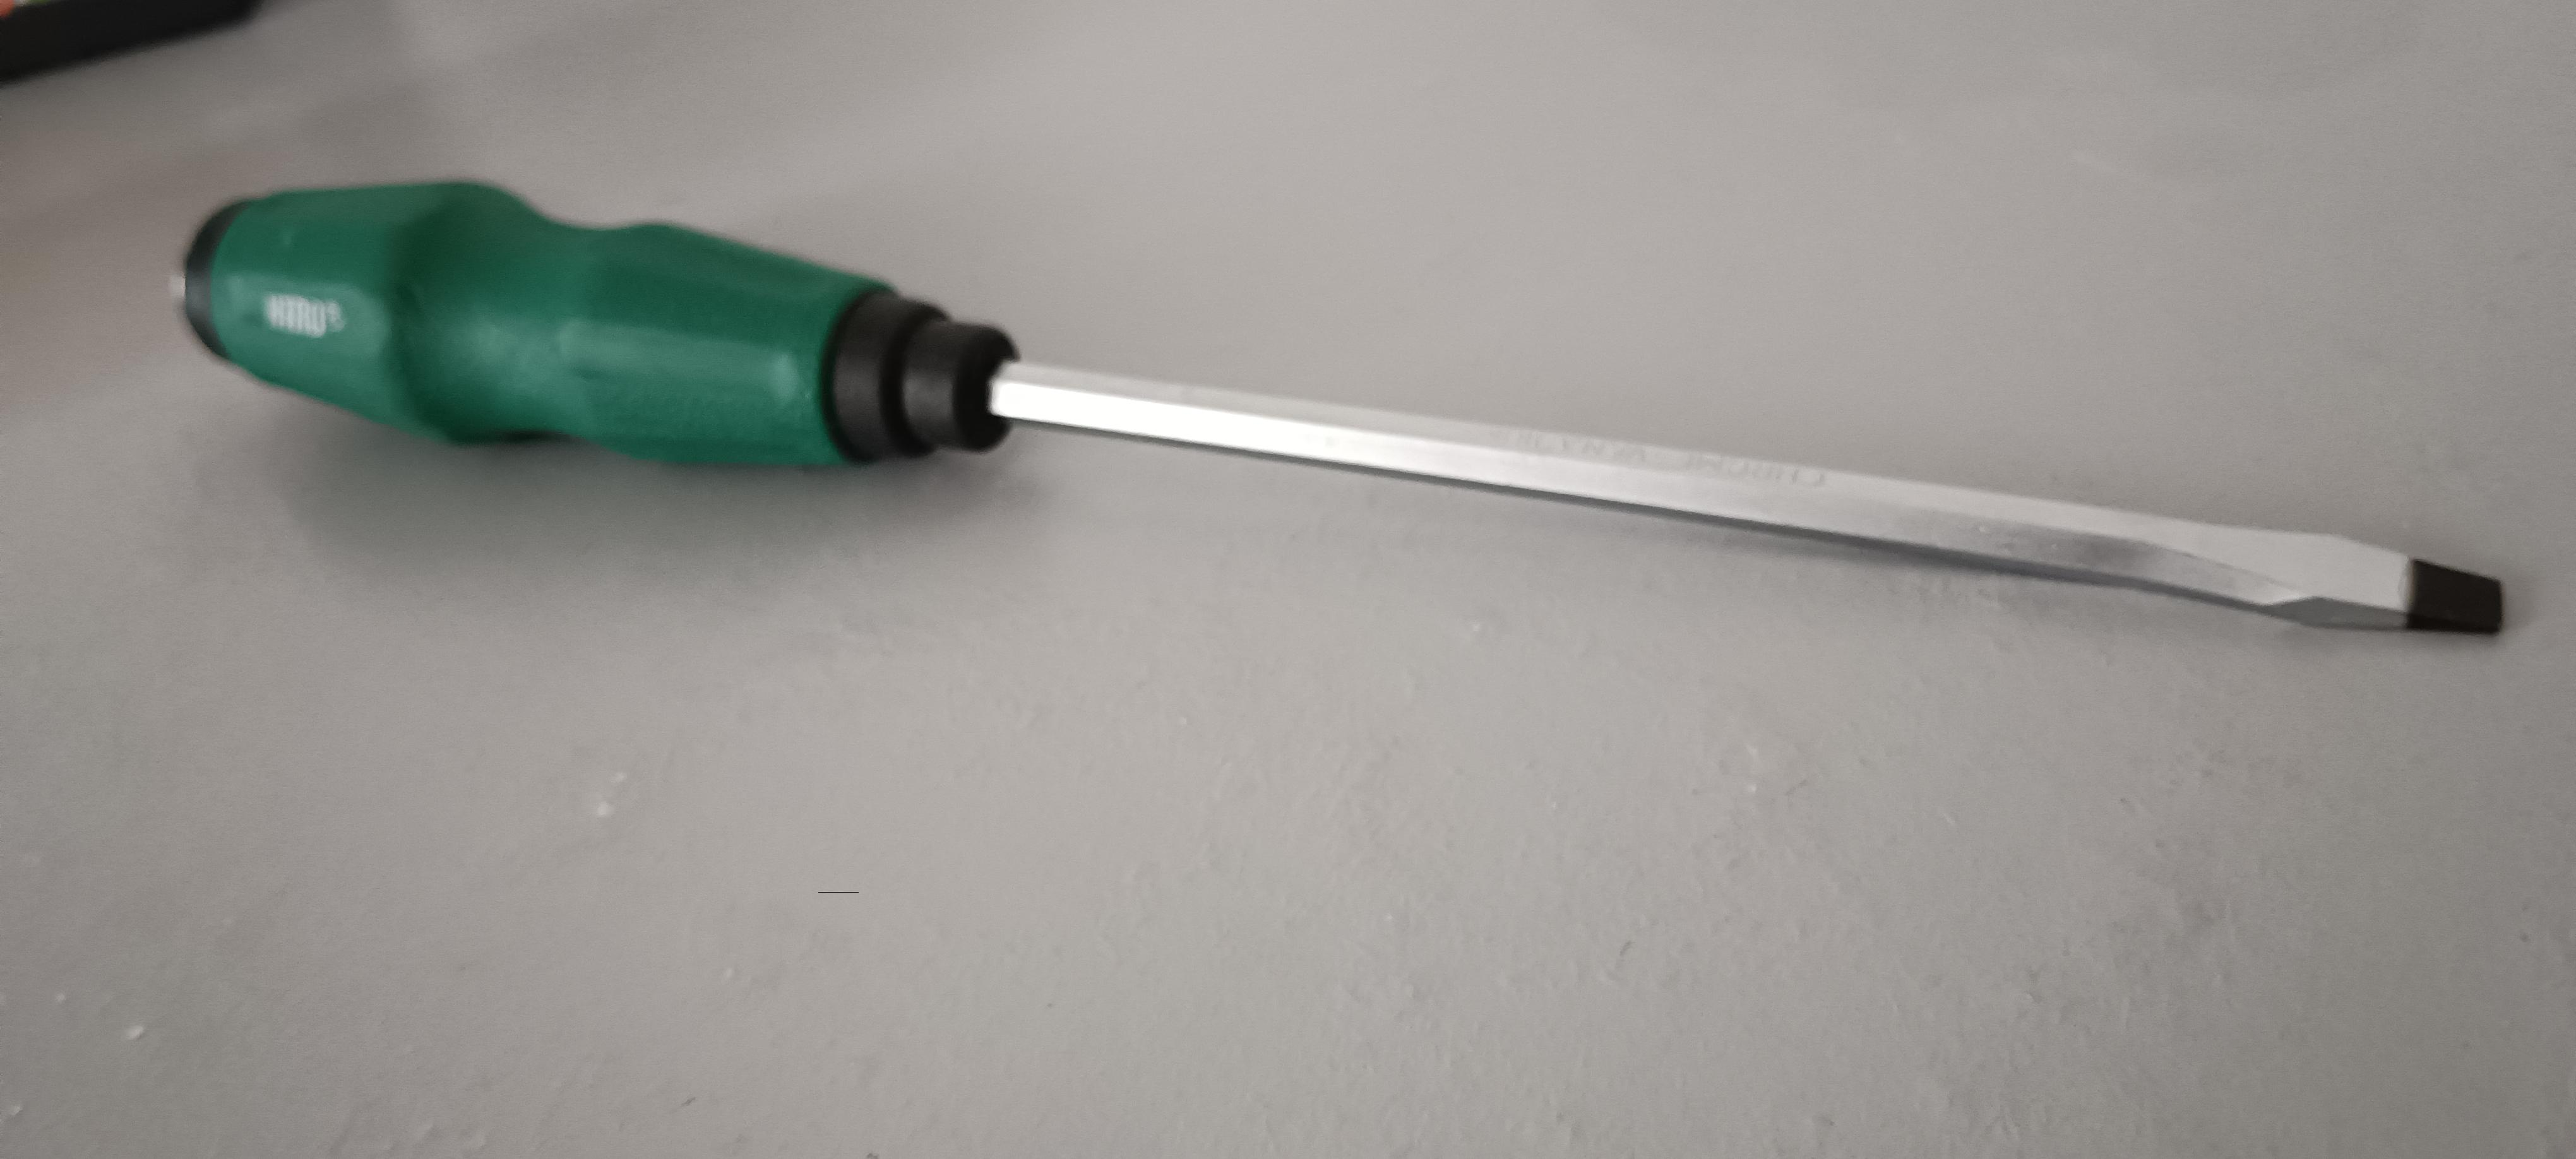Screwdriver: (128, 102, 2576, 783)
